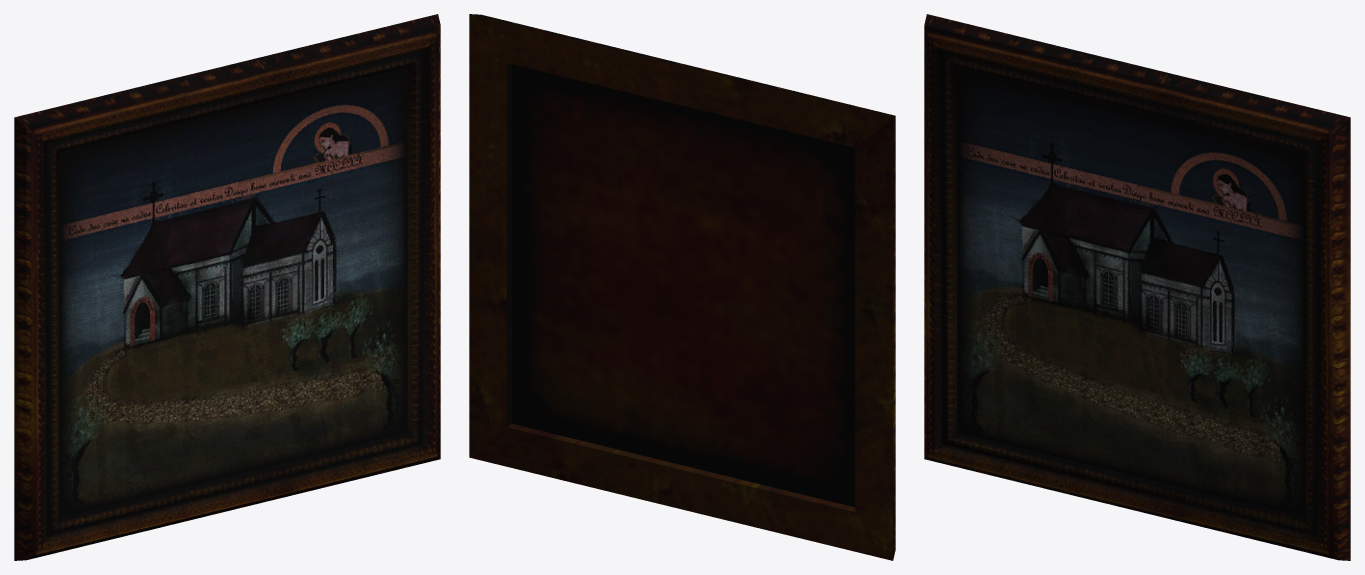
Rendered from painting_diego_church.dae.
The picture shows the model from 3 angles, left to right: view 1: azimuth 30°, elevation 25°; view 2: azimuth 150°, elevation 25°; view 3: azimuth 330°, elevation 25°; orthographic projection.
Parts seen in each view (by area): view 1: pPlane1; view 2: pPlane1; view 3: pPlane1.
Part boxes in pixels (x1,y1,x2,y2): pPlane1: [14, 14, 440, 560]; pPlane1: [469, 14, 895, 560]; pPlane1: [924, 14, 1350, 560].
Size of the model in its own units: 2 by 2 by 0.0878.
Materials: 1 (1 with a texture image).
